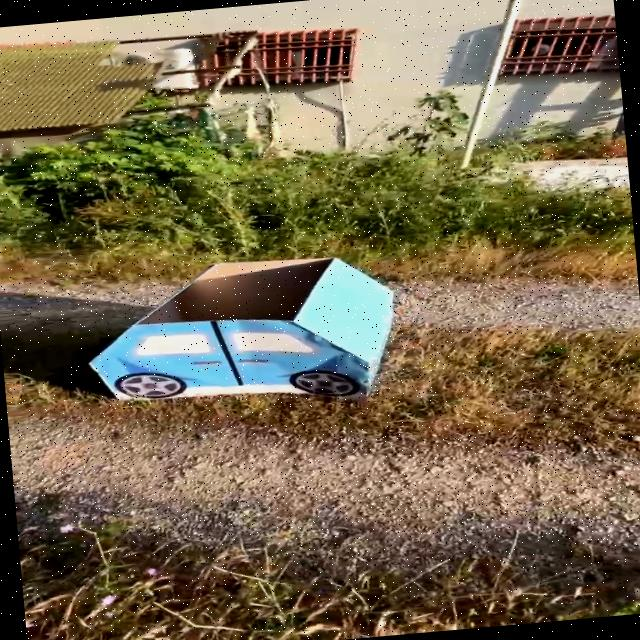blue_car: (24, 216, 489, 451)
